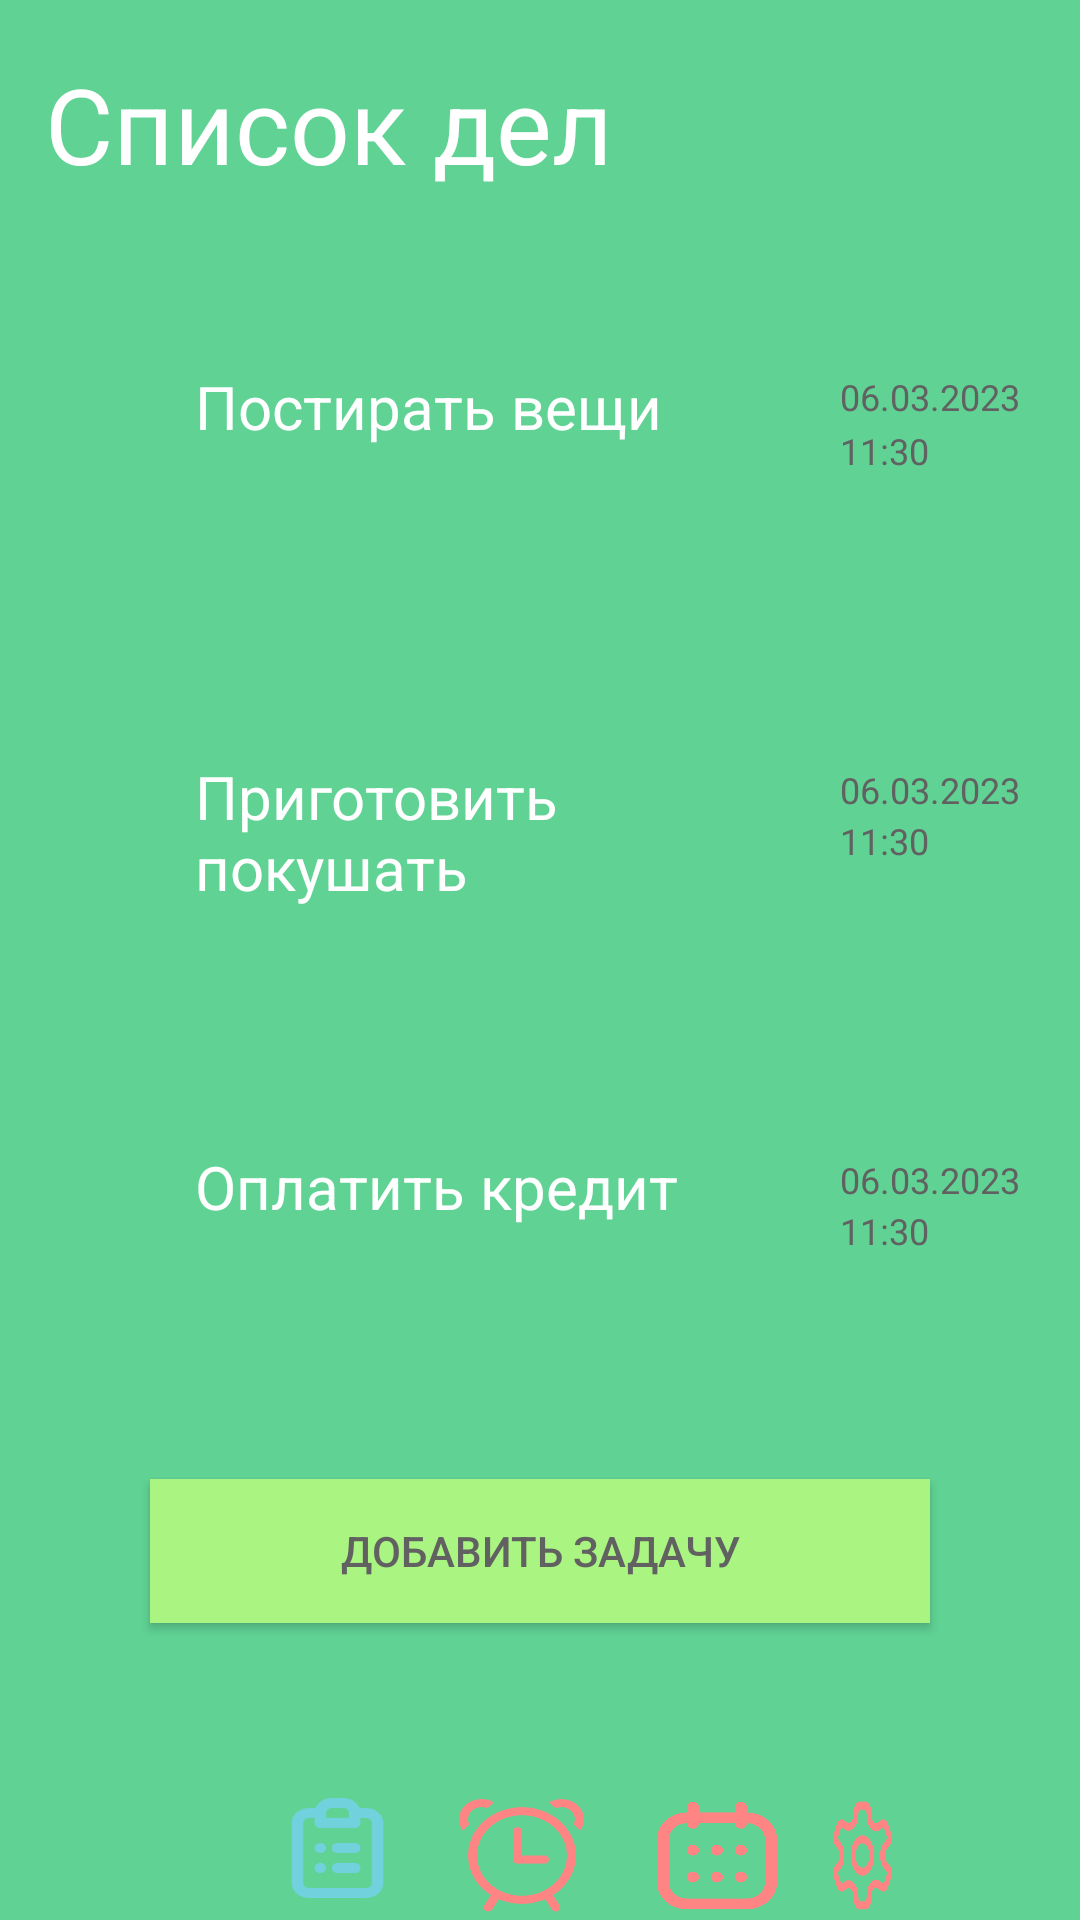

Where to tap for icons on this 1080px×1920px app screen, as (x,y):
Будильник: (521,1855)
Календарь: (717,1855)
Настройки: (862,1855)
Список: (337,1848)
